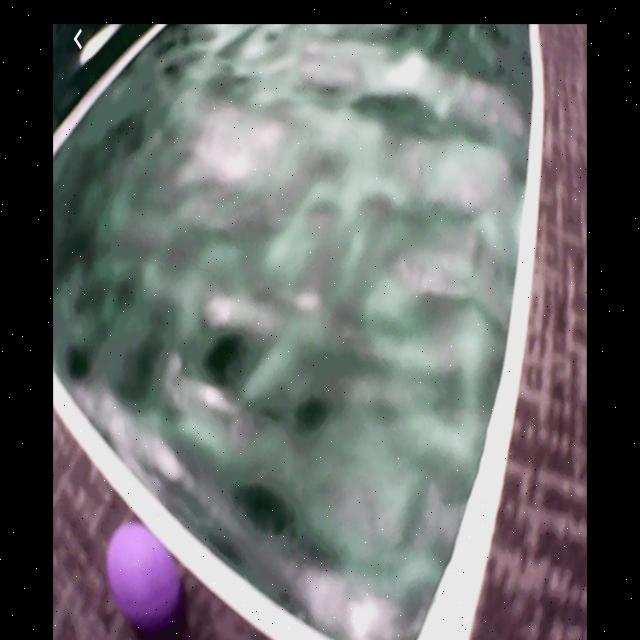ball: (106, 520, 188, 636)
